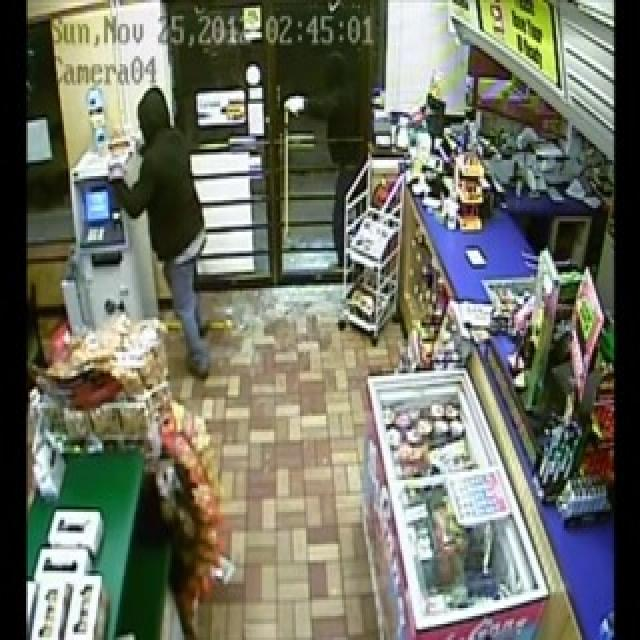thief: (108, 94, 236, 368)
